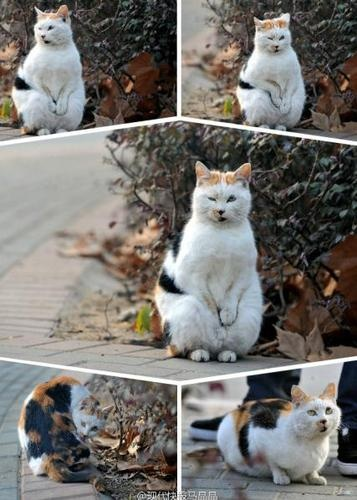cat: (154, 161, 264, 364), (217, 382, 342, 487), (17, 376, 115, 484), (12, 5, 88, 136), (235, 12, 305, 132)
